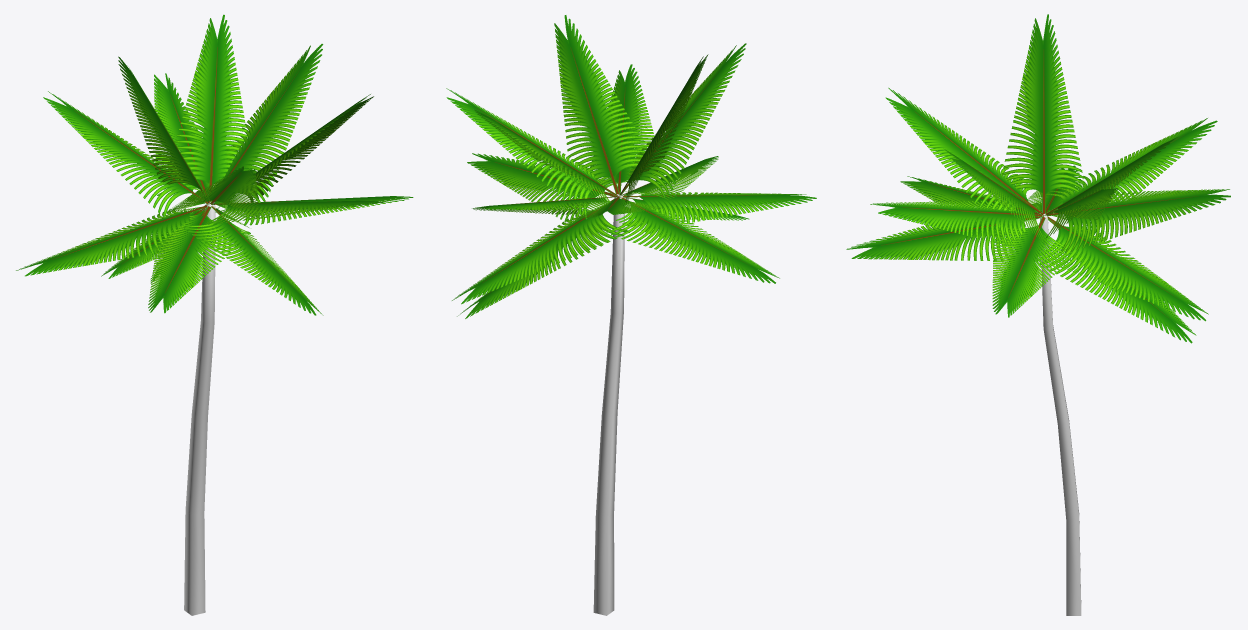
File: Palm1_LOD2.fbx
The picture shows the model from 3 angles, left to right: view 1: azimuth 30°, elevation 25°; view 2: azimuth 150°, elevation 25°; view 3: azimuth 270°, elevation 25°; orthographic projection. The views are drawn at different scales.
Parts seen in each view (by area): view 1: Palm1_LOD2; view 2: Palm1_LOD2; view 3: Palm1_LOD2.
Part boxes in pixels (<box>): Palm1_LOD2: <box>16,14,413,615</box>; Palm1_LOD2: <box>446,15,816,615</box>; Palm1_LOD2: <box>846,14,1230,615</box>.
Size of the model in its own units: 893 by 1393 by 878.
